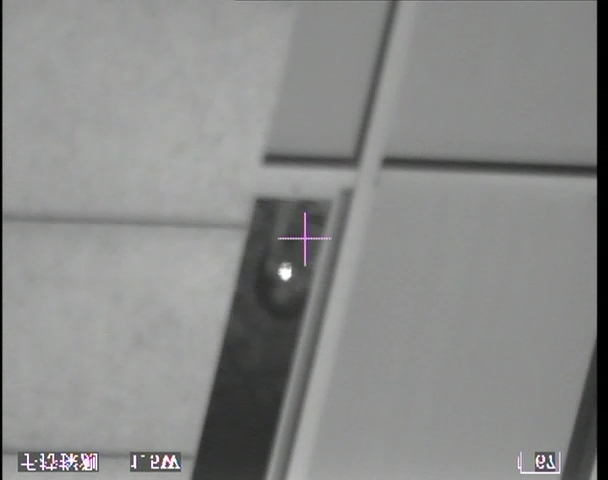my: (276, 259, 292, 282)
